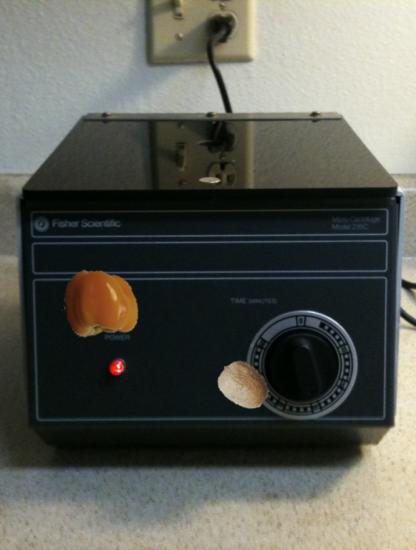Kiwi: (217, 358, 271, 412)
Pepper: (60, 266, 138, 344)
